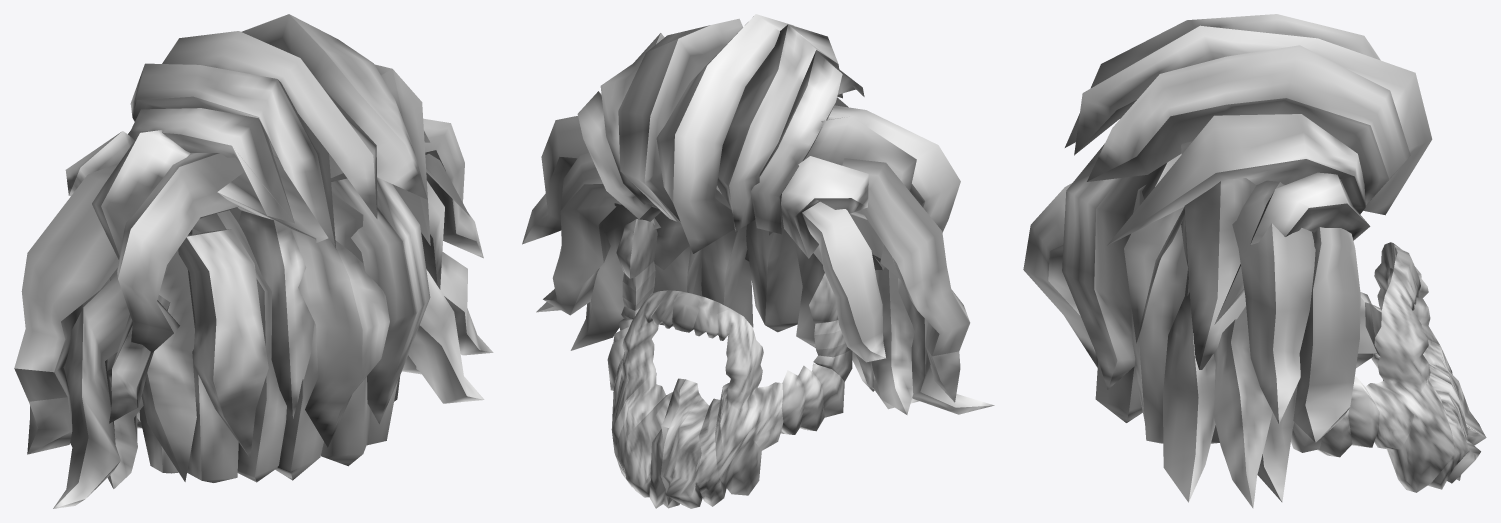
The picture shows the model from 3 angles, left to right: view 1: azimuth 30°, elevation 25°; view 2: azimuth 150°, elevation 25°; view 3: azimuth 270°, elevation 25°; orthographic projection. The views are drawn at different scales.
Visible parts, largest first — view 1: geometry_0; view 2: geometry_0; view 3: geometry_0.
Boxes of the visible parts, box(x1,y1,x2,y2) form: geometry_0: box(14, 14, 493, 508); geometry_0: box(522, 14, 994, 508); geometry_0: box(1023, 14, 1486, 508).
Size of the model in its own units: 2.44 by 2.18 by 1.98.
Materials: 1 (1 with a texture image).
